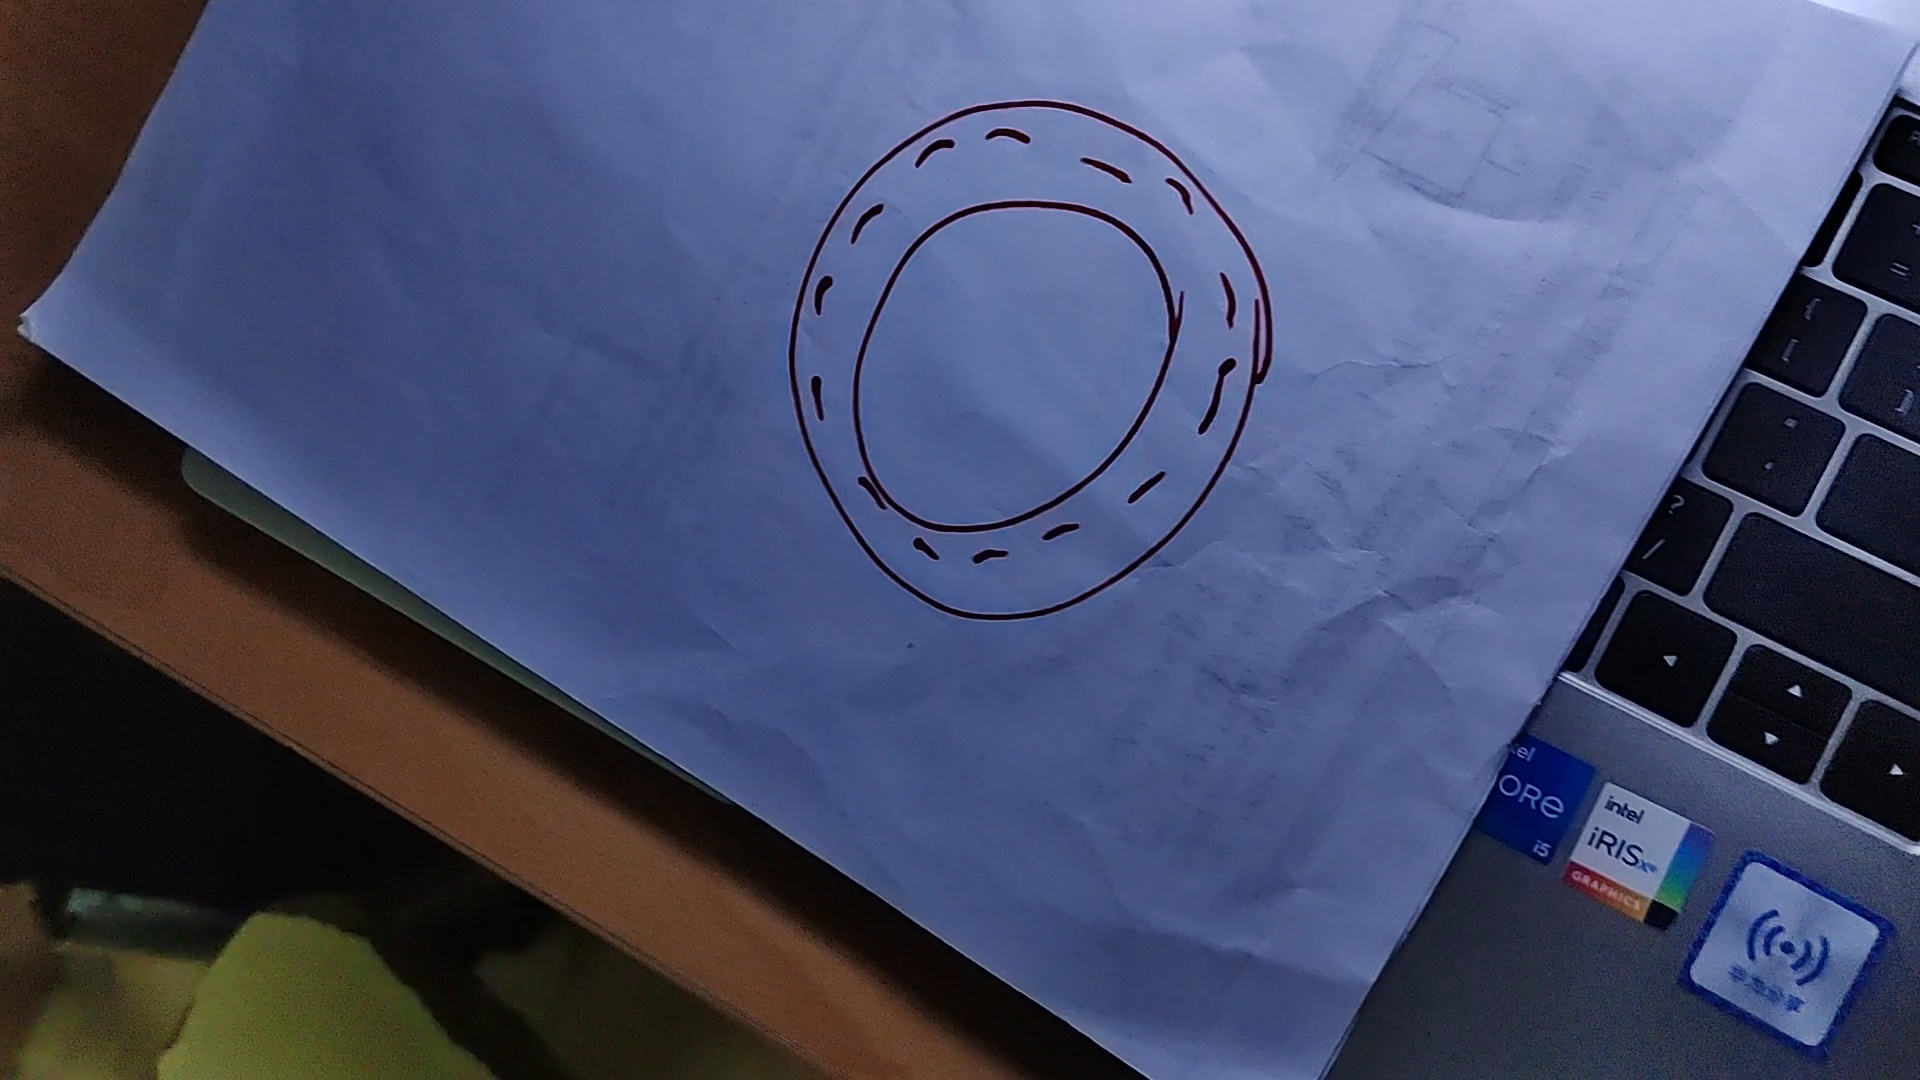circle: (787, 100, 1274, 618)
